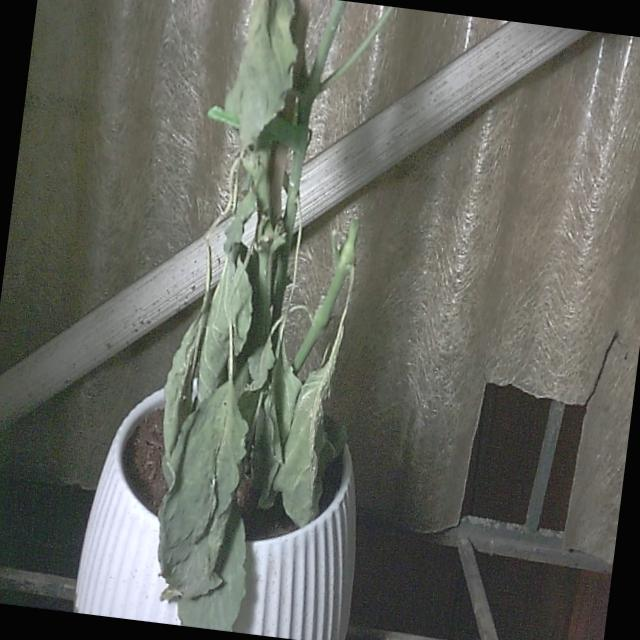Leaf: (150, 376, 256, 610), (268, 357, 339, 530)
